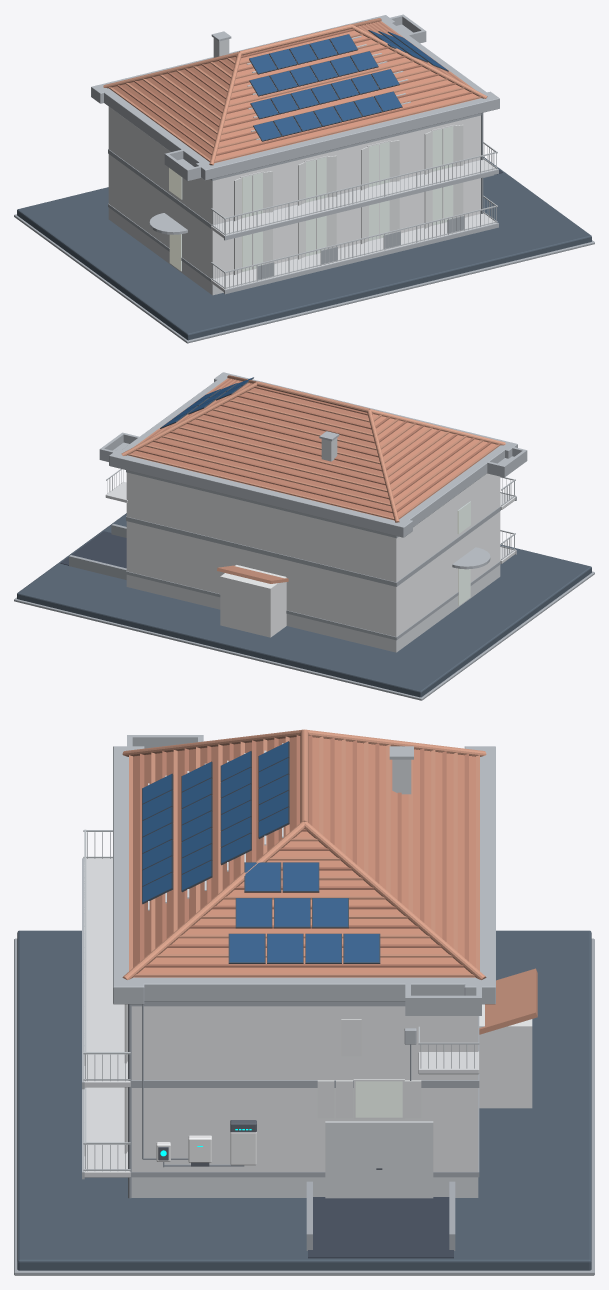
Rendered from villa_solare.glb.
3 renders of one model, top to bottom at view 1: azimuth 30°, elevation 25°; view 2: azimuth 150°, elevation 25°; view 3: azimuth 270°, elevation 25°, orthographic. The views are drawn at different scales.
Visible parts, largest first — view 1: Base_Platform, House_Wall_Main, Hipped_Roof, Cornice_Front, Balcony_Slab_F2, Balcony_Slab_F1, Base_Border_Rim, Cornice_Left, Balcony_Fascia_F2, Balcony_Fascia_F1, House_Wall_Plinth, Window_Glass_F2_D3 (+26 smaller); view 2: House_Wall_Main, Base_Platform, Hipped_Roof, Cornice_Back, House_Wall_Plinth, Rear_Extension_Body, Base_Border_Rim, House_Band_Mid, Cornice_Left, Garage_Driveway_Flat, House_Band_Low, TileRow_Back_0 (+21 smaller); view 3: Base_Platform, House_Wall_Main, Hipped_Roof, Garage_Frame, Garage_Driveway_Flat, Cornice_Right, Balcony_Slab_F2, Base_Border_Rim, House_Wall_Plinth, Cornice_Front, Rear_Extension_Body, Cornice_Back (+37 smaller).
Boxes of the visible parts, box(x1,y1,x2,y2) form: Base_Platform: box(17, 157, 591, 340); House_Wall_Main: box(108, 107, 480, 278); Hipped_Roof: box(112, 30, 479, 163); Cornice_Front: box(196, 91, 499, 180); Balcony_Slab_F2: box(211, 159, 496, 238); Balcony_Slab_F1: box(211, 213, 496, 291); Base_Border_Rim: box(14, 214, 594, 343); Cornice_Left: box(96, 82, 221, 168); Balcony_Fascia_F2: box(224, 169, 498, 240); Balcony_Fascia_F1: box(224, 223, 498, 294); House_Wall_Plinth: box(108, 207, 223, 295); Window_Glass_F2_D3: box(432, 126, 453, 171); House_Wall_Main: box(126, 472, 500, 636); Base_Platform: box(17, 513, 591, 697); Hipped_Roof: box(128, 388, 496, 520); Cornice_Back: box(109, 449, 412, 537); House_Wall_Plinth: box(126, 565, 500, 652); Rear_Extension_Body: box(220, 565, 286, 637); Base_Border_Rim: box(14, 571, 594, 700); House_Band_Mid: box(126, 506, 500, 586); Cornice_Left: box(386, 440, 512, 527); Garage_Driveway_Flat: box(60, 531, 126, 568); House_Band_Low: box(126, 561, 500, 640); TileRow_Back_0: box(127, 453, 394, 520); Base_Platform: box(17, 930, 591, 1270); House_Wall_Main: box(131, 1006, 478, 1171); Hipped_Roof: box(133, 737, 475, 977); Garage_Frame: box(325, 1121, 433, 1198); Garage_Driveway_Flat: box(308, 1197, 453, 1258); Cornice_Right: box(116, 971, 480, 1001); Balcony_Slab_F2: box(84, 858, 130, 1087); Base_Border_Rim: box(14, 938, 594, 1275); House_Wall_Plinth: box(131, 1177, 478, 1197); Cornice_Front: box(113, 746, 144, 1004); Rear_Extension_Body: box(479, 1004, 532, 1108); Cornice_Back: box(464, 746, 495, 1004).
Size of the model in its own units: 22.7 by 10.37 by 16.7.
